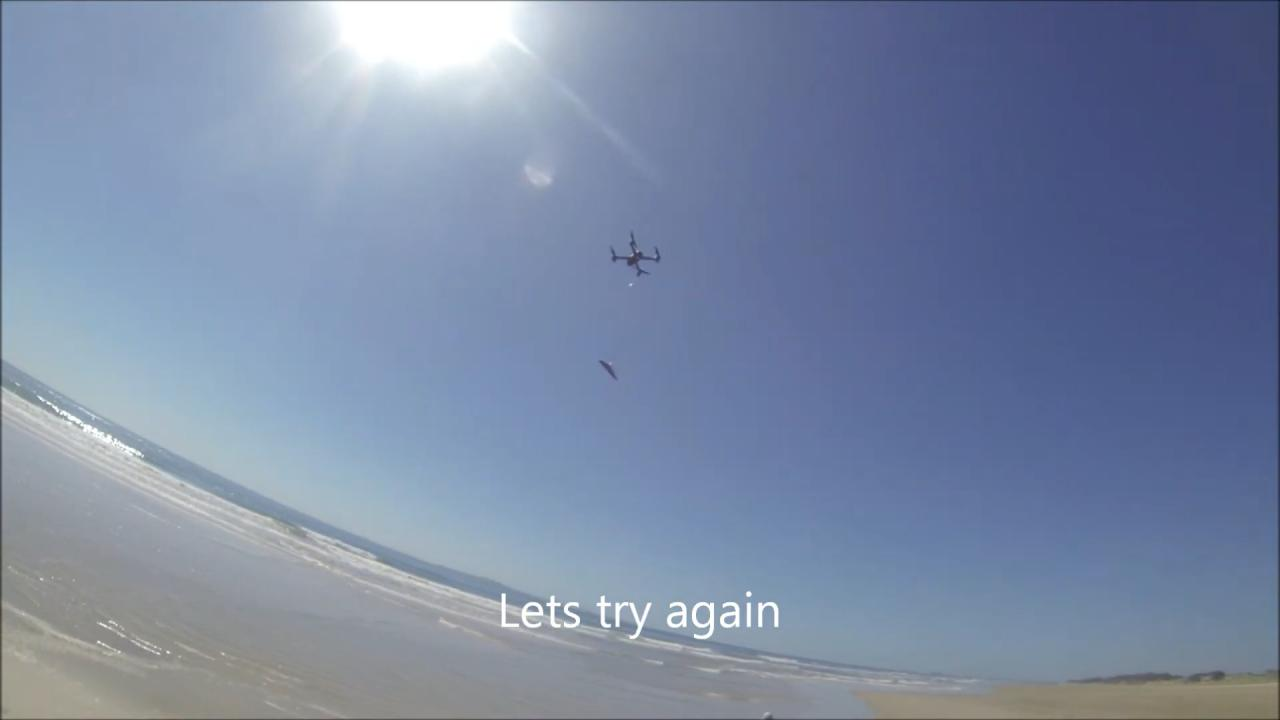Drone: (606, 223, 666, 287)
